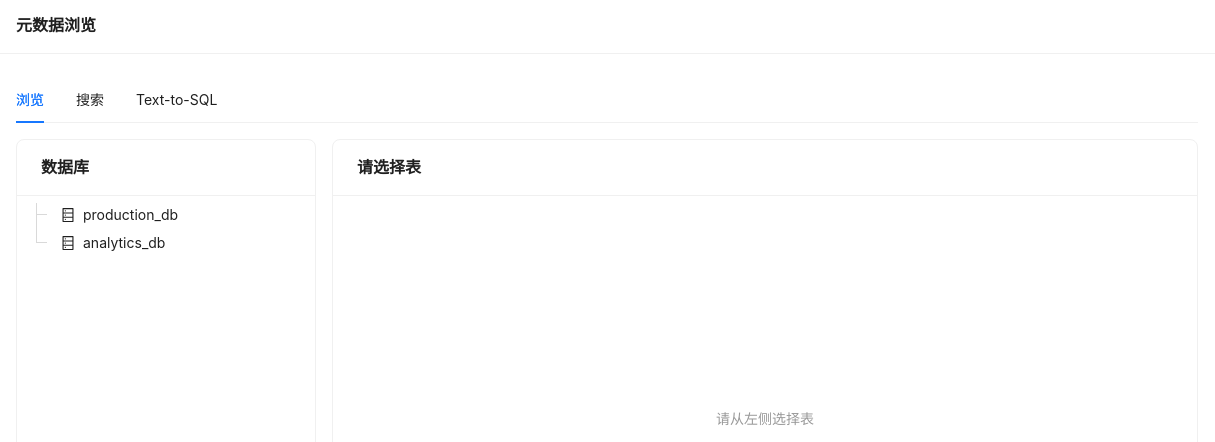
Scenario: MetadataPage 搜索功能 › 应该能够切换到搜索标签
What coordinates should you click on to do the following:
click the tab "搜索"
I would click on:
 (90, 100)
Its box is [76,89,104,111].
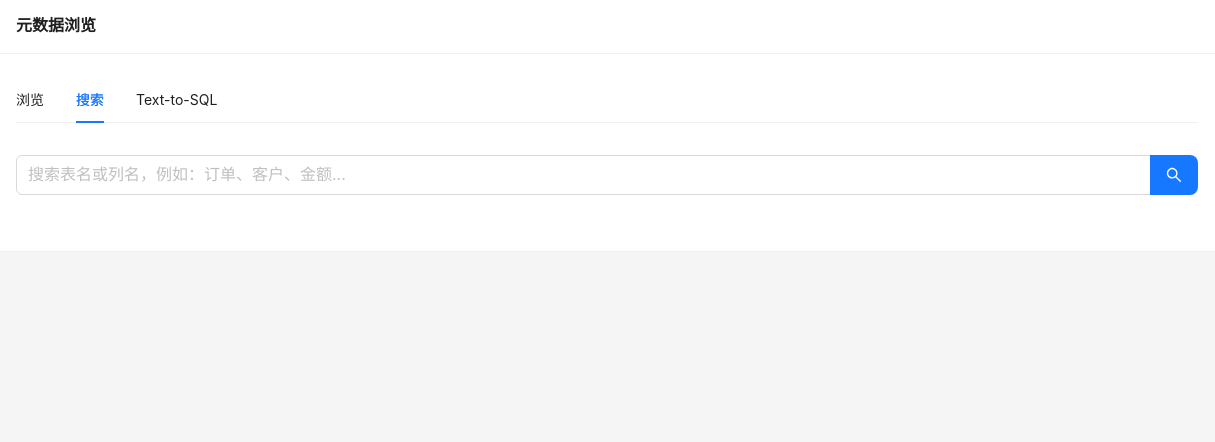
Now the search field with placeholder "搜索表名或列名，例如：订单、客户、金额..." is shown, box [28,163,1123,187]
